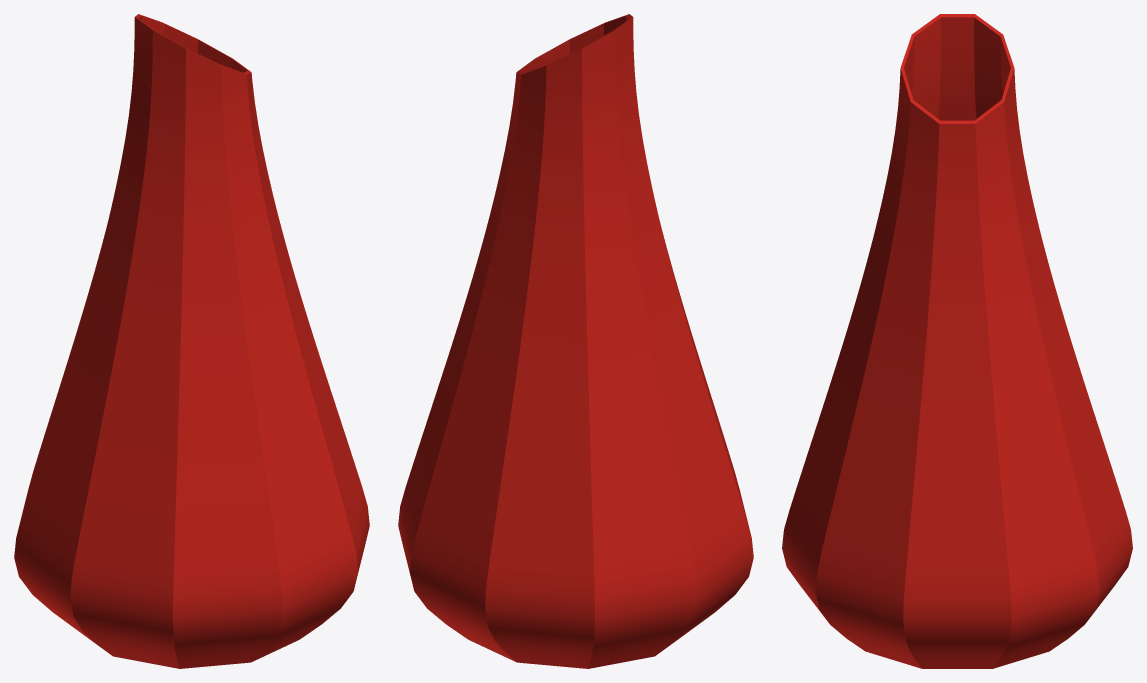
3 renders of one model, left to right at view 1: azimuth 30°, elevation 25°; view 2: azimuth 150°, elevation 25°; view 3: azimuth 270°, elevation 25°, orthographic. The views are drawn at different scales.
Visible parts, largest first — view 1: tapered_vessel; view 2: tapered_vessel; view 3: tapered_vessel.
Part boxes in pixels (left/top/right/bottom): tapered_vessel: left=14, top=14, right=369, bottom=668; tapered_vessel: left=398, top=14, right=753, bottom=668; tapered_vessel: left=782, top=14, right=1132, bottom=668.
Size of the model in its own units: 0.1291 by 0.2503 by 0.1357.
